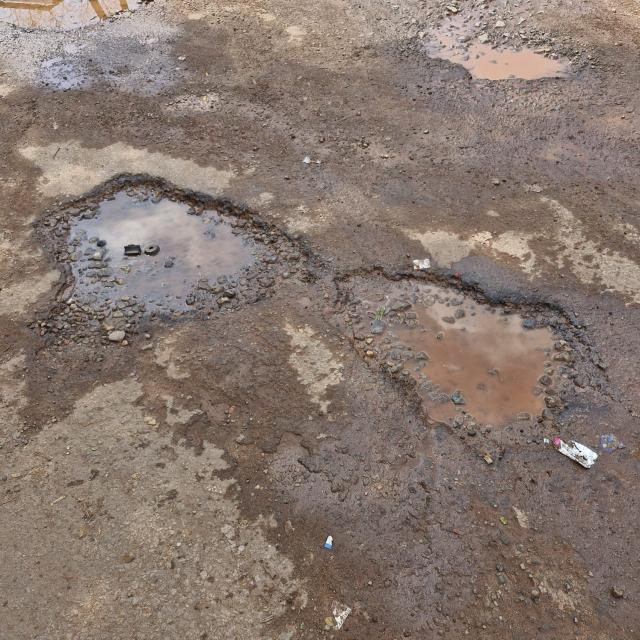pothole: (330, 237, 600, 467), (33, 174, 303, 347), (372, 12, 612, 98), (0, 0, 173, 59), (159, 87, 269, 134)
